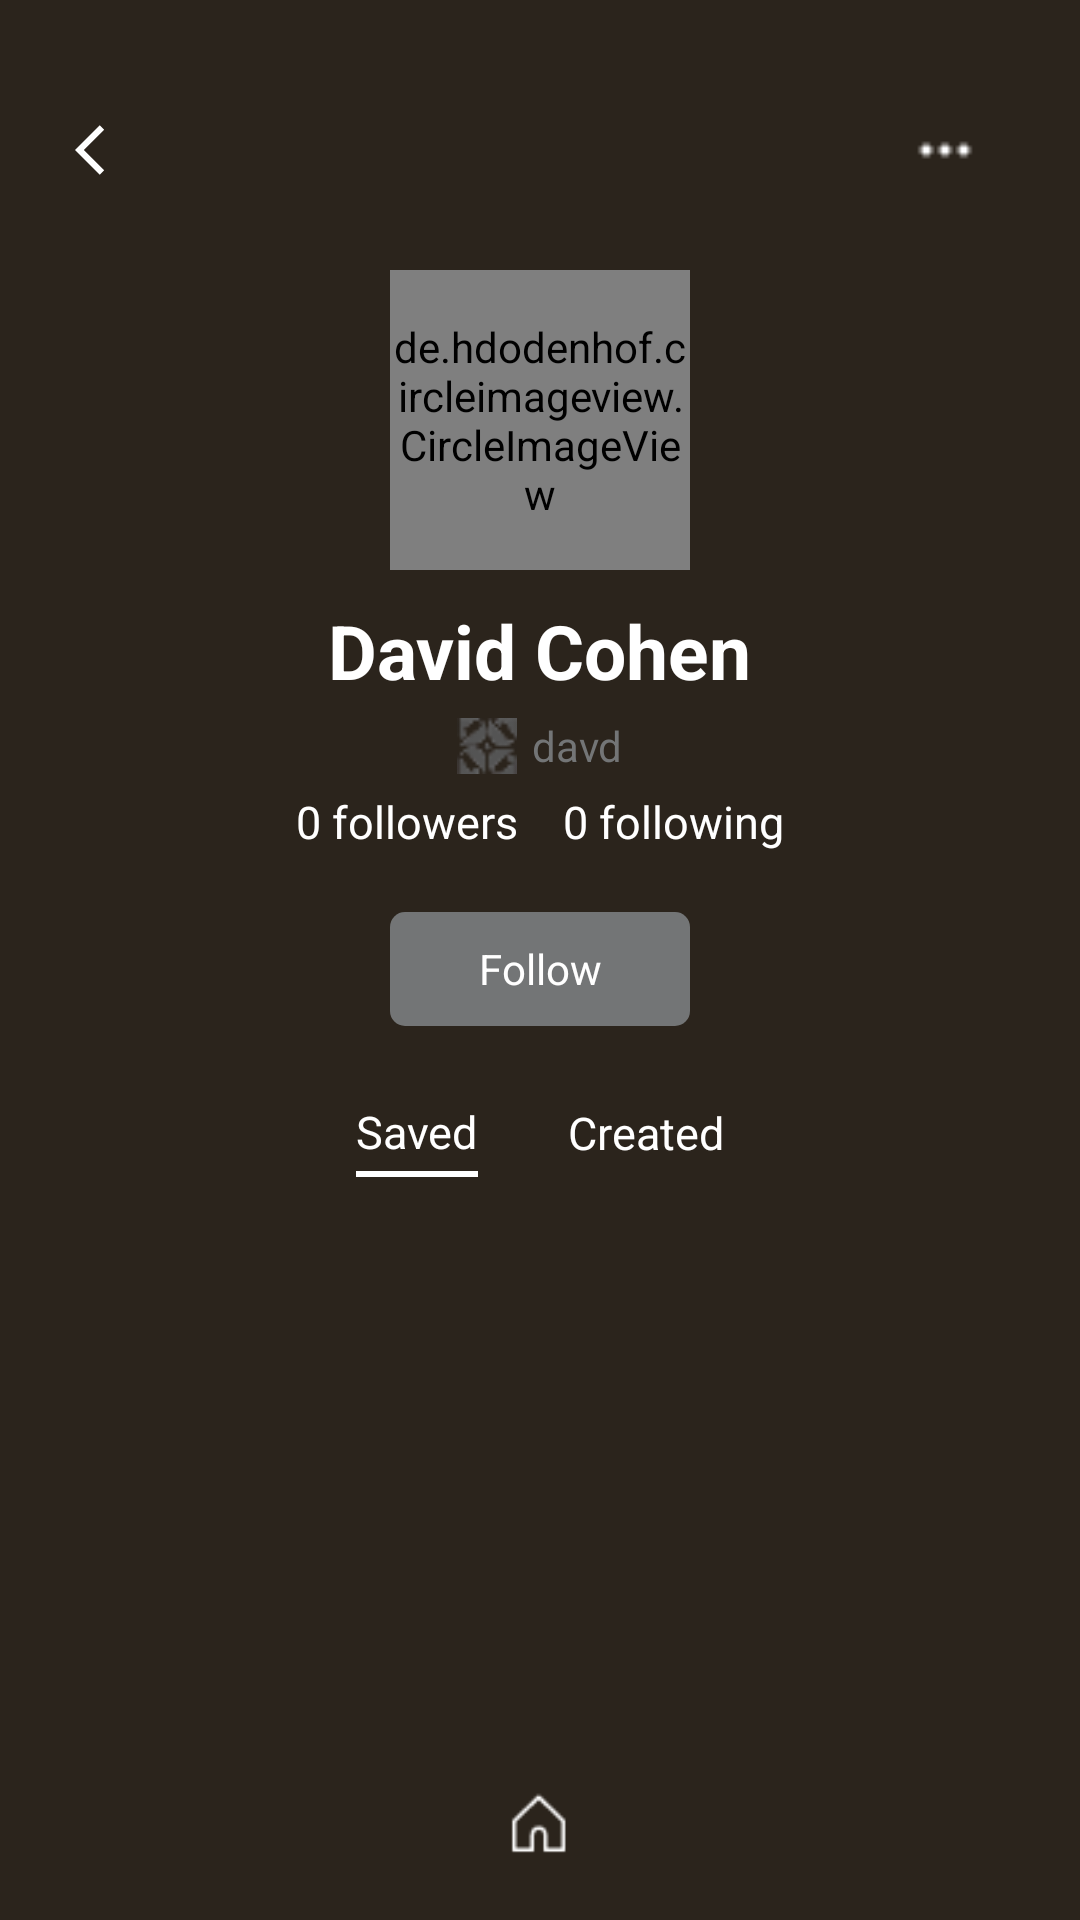

Icons on this 1080*1920 Android screen, each with its box as bbox(x1, y1, x2, y2):
back arrow: bbox(75, 125, 104, 175)
options: bbox(918, 142, 972, 158)
